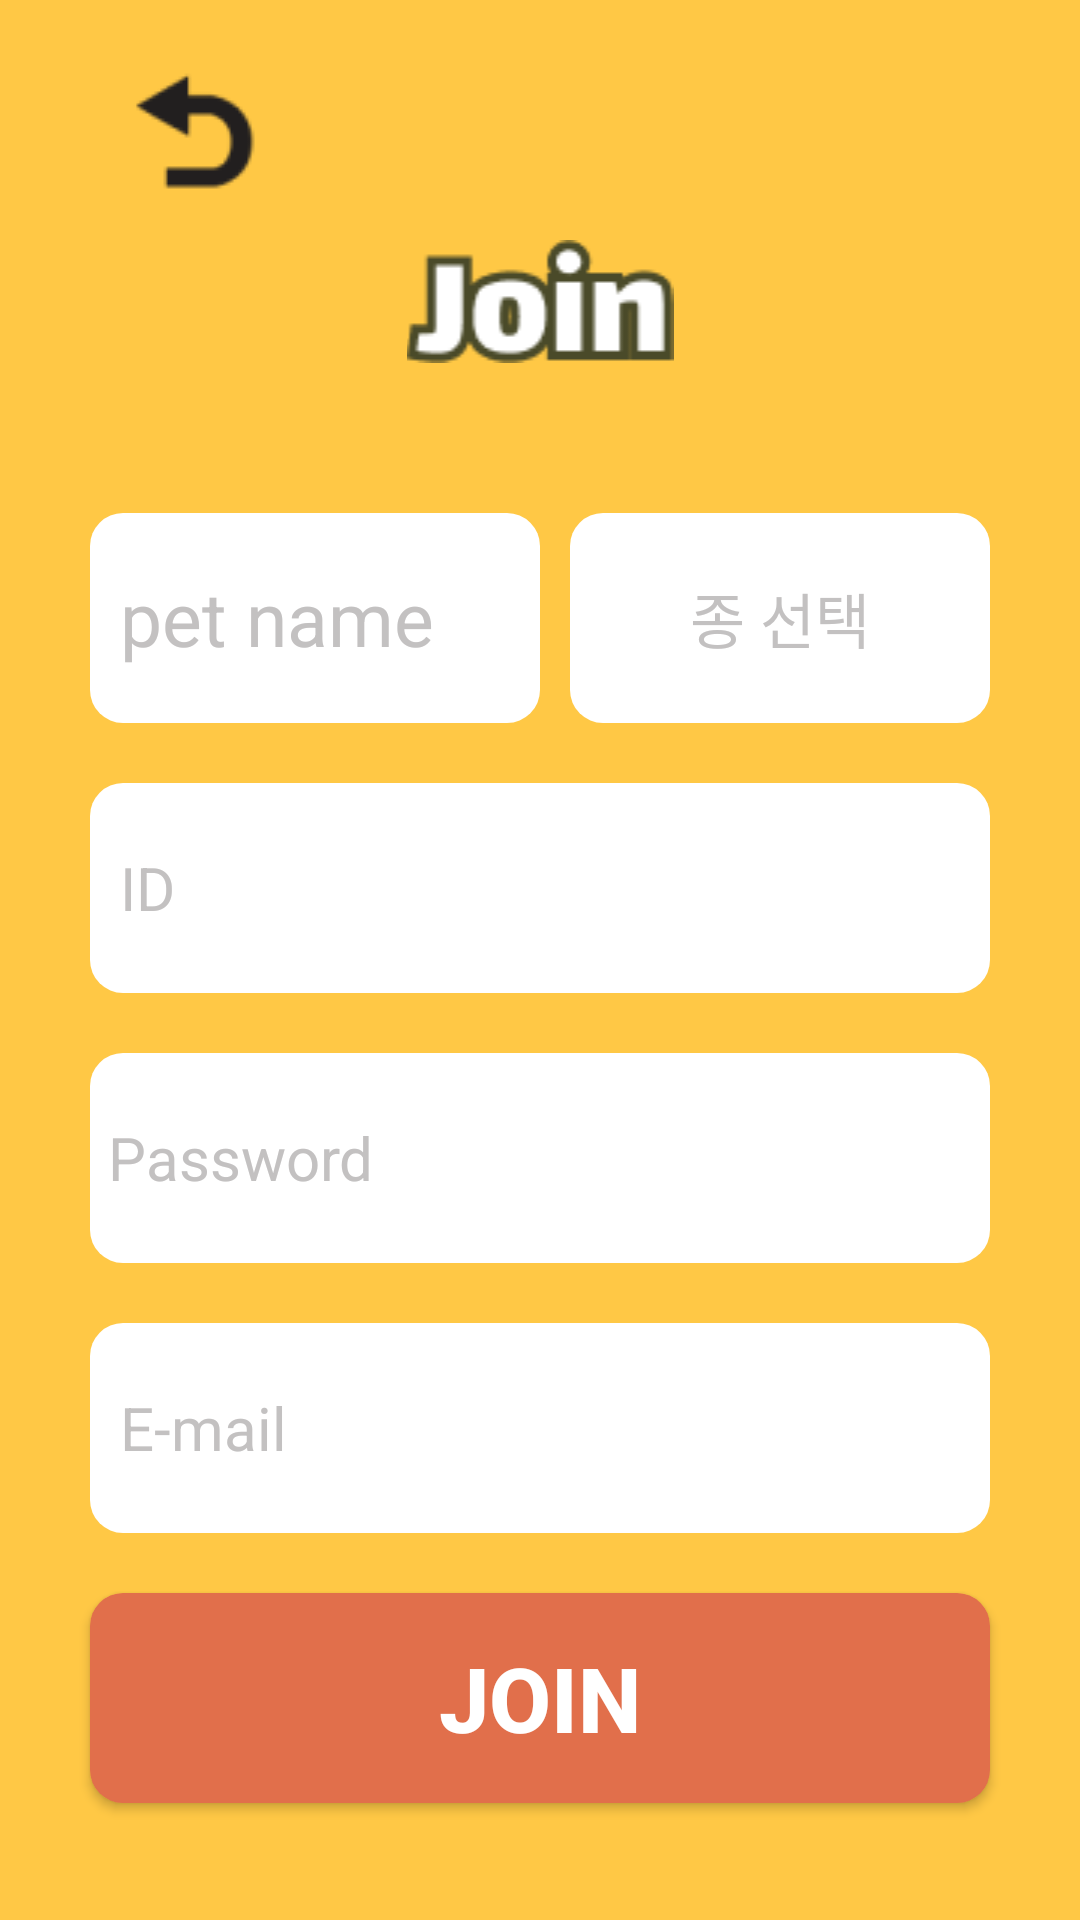

Locate icon controls on the screen. Image size 1080px x 1920px, boxes as bbox=(x1, y1, x2, y2).
back: bbox=(136, 75, 255, 189)
